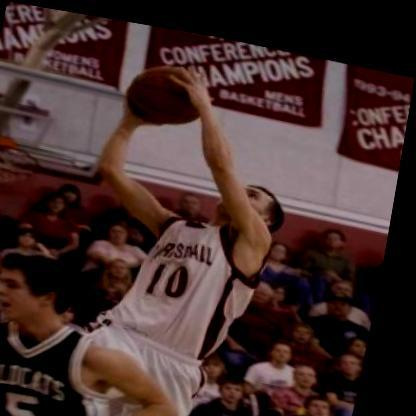basketball: (117, 47, 219, 128)
